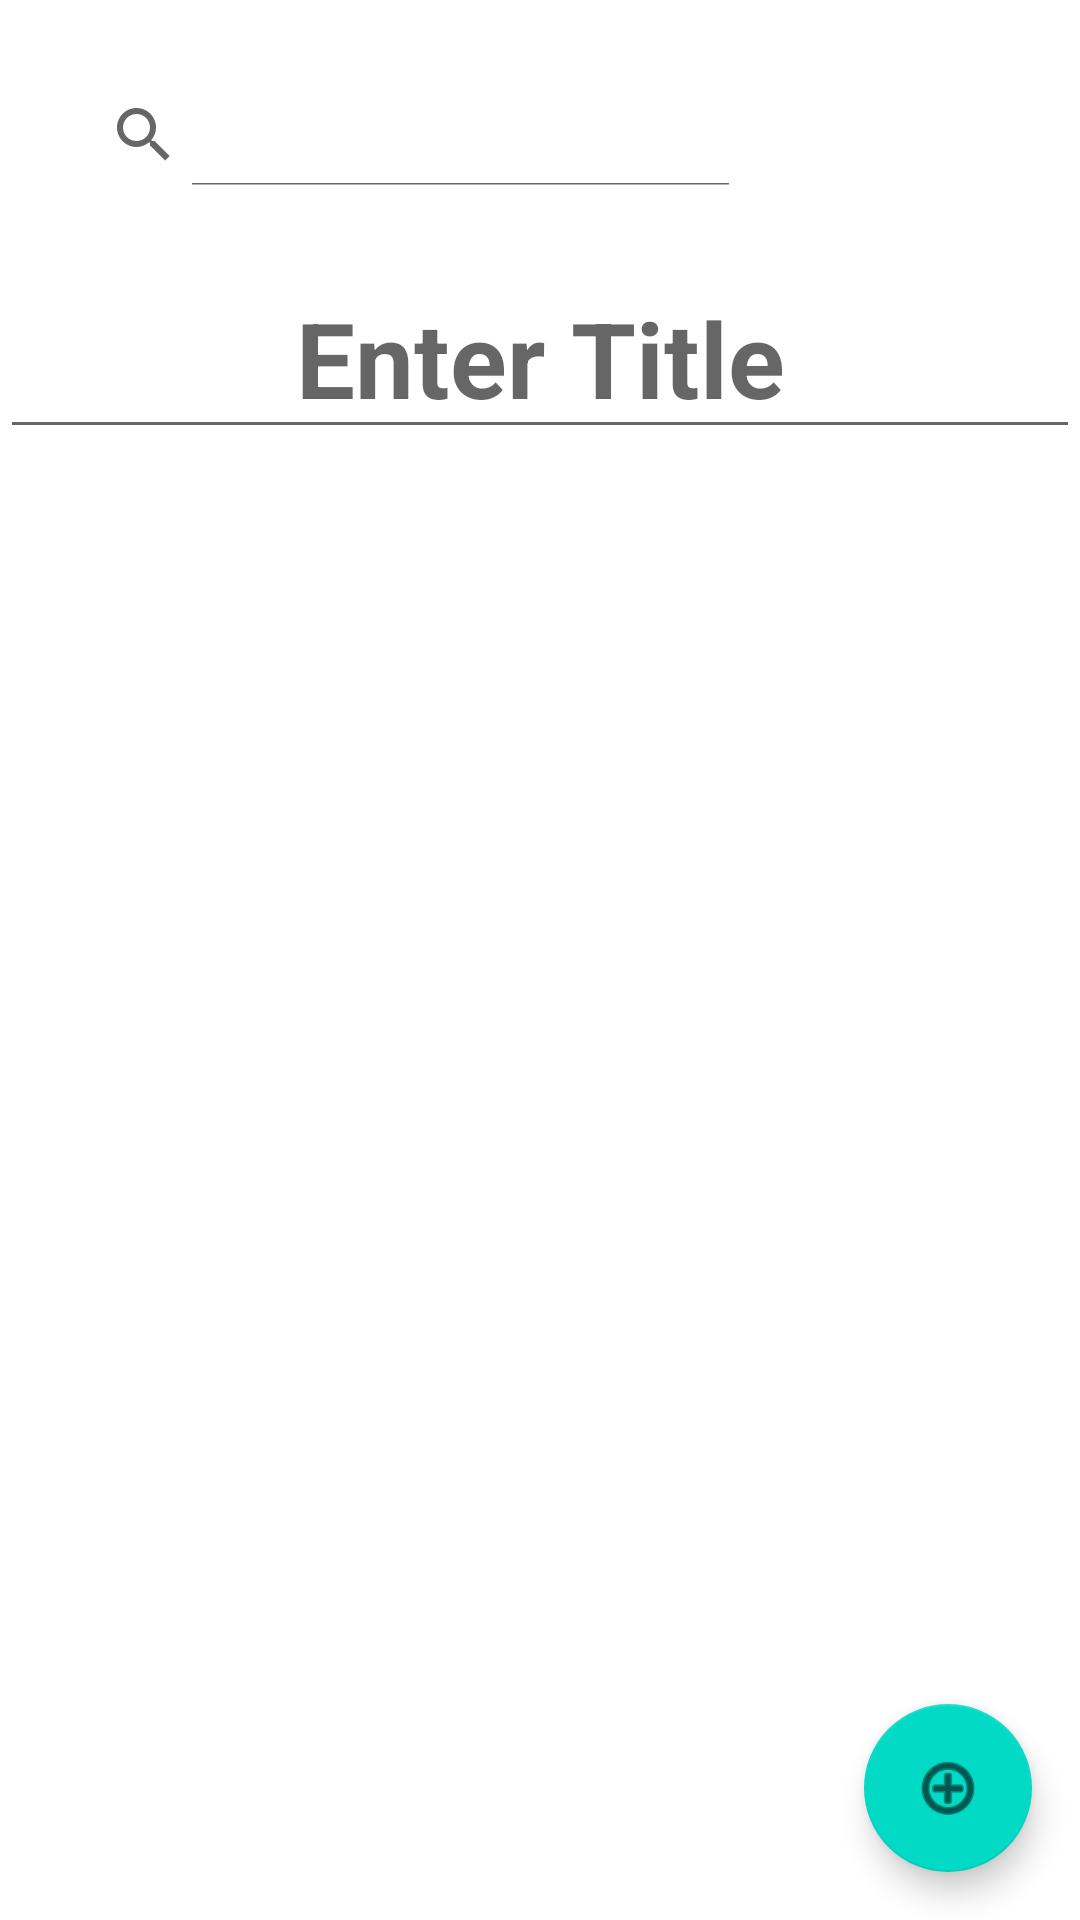

Icons on this 1080 × 1920 Android screen, each with its box as (x1, y1, x2, y2):
Add notes: (864, 1704, 1032, 1872)
